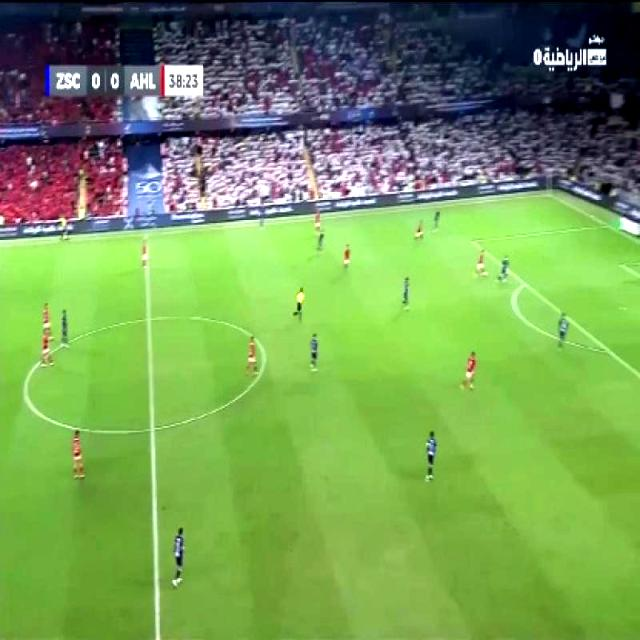bigarea_top_inner: (464, 232, 478, 248)
bigarea_top_outter: (597, 217, 611, 231)
bottom_arc_area_intersection: (601, 342, 614, 358)
corner: (538, 188, 556, 200)
halfcircle_bottom: (140, 412, 160, 442)
halfcircle_top: (137, 306, 158, 331)
midline_top_intersection: (137, 226, 154, 242)
smallarea_top_inner: (614, 257, 626, 271)
top_arc_area_intersection: (517, 276, 531, 290)
